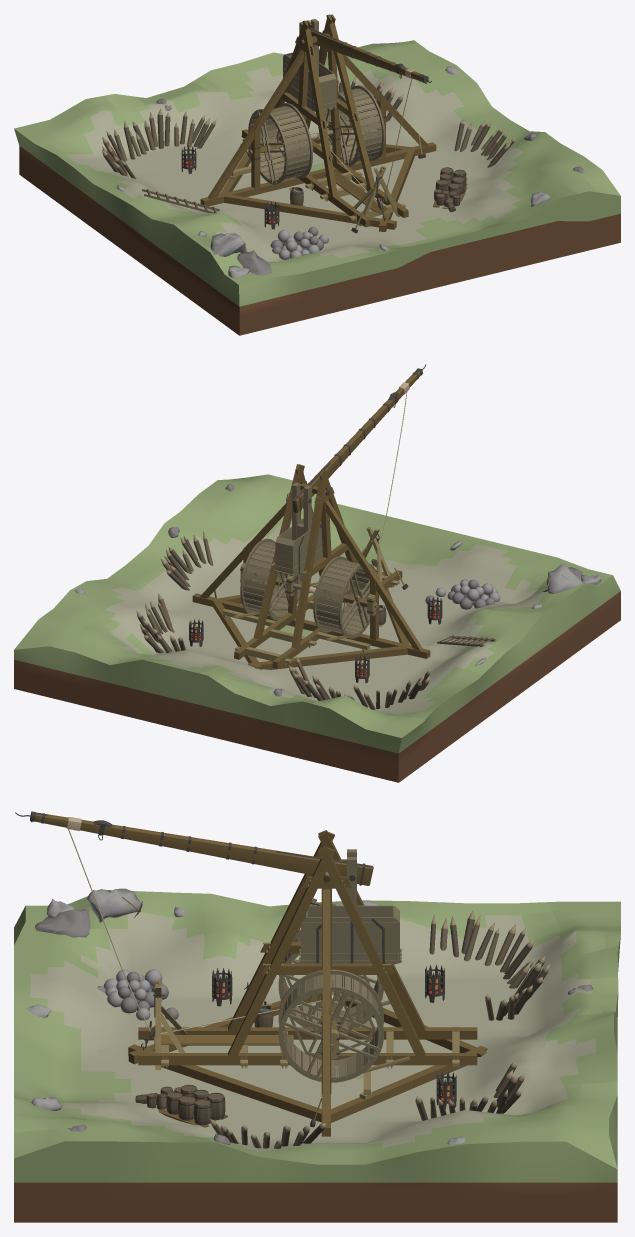
3 renders of one model, top to bottom at view 1: azimuth 30°, elevation 25°; view 2: azimuth 150°, elevation 25°; view 3: azimuth 270°, elevation 25°, orthographic. The views are drawn at different scales.
Visible parts, largest first — view 1: pCube103, polySurface4496, polySurface2469, pSphere49, pSphere50, pCube154; view 2: pCube103, polySurface4496, polySurface2469, pSphere49; view 3: pCube103, polySurface4496, polySurface2469, pSphere49, pSphere50, polySurface1853, polySurface1843, polySurface1854.
Part boxes in pixels (x1,y1,x2,y2): pCube103: [14, 40, 620, 335]; polySurface4496: [200, 14, 436, 231]; polySurface2469: [270, 227, 328, 259]; pSphere49: [210, 233, 246, 256]; pSphere50: [237, 250, 271, 275]; pCube154: [142, 189, 219, 213]; pCube103: [14, 474, 620, 782]; polySurface4496: [192, 364, 430, 669]; polySurface2469: [425, 579, 500, 609]; pSphere49: [546, 564, 584, 593]; pCube103: [14, 890, 620, 1222]; polySurface4496: [15, 811, 487, 1136]; polySurface2469: [97, 969, 178, 1020]; pSphere49: [87, 888, 142, 922]; pSphere50: [35, 909, 90, 937]; polySurface1853: [212, 968, 232, 1006]; polySurface1843: [425, 964, 444, 1002]; polySurface1854: [436, 1071, 456, 1109].
Size of the model in its own units: 69.75 by 35.63 by 68.98.
